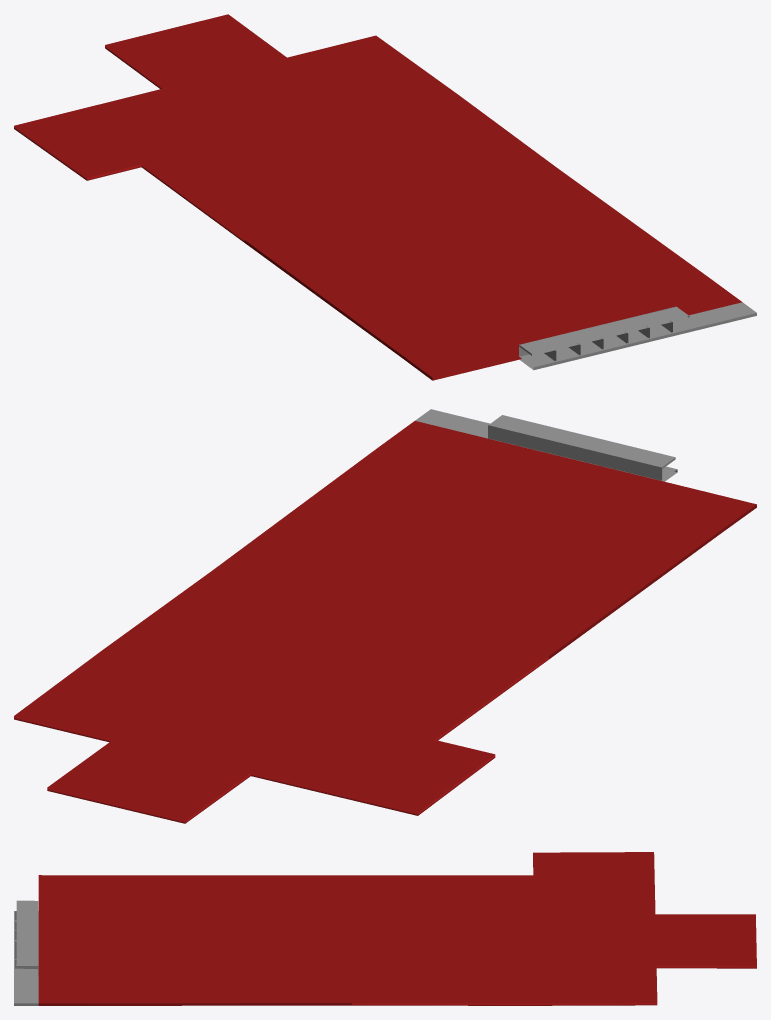
Rendered from floor.FBX.
3 views of the same model, one above another, from view 1: azimuth 30°, elevation 25°; view 2: azimuth 150°, elevation 25°; view 3: azimuth 270°, elevation 25° (orthographic). The views are drawn at different scales.
Visible parts, largest first — view 1: foor10_18; view 2: foor10_18; view 3: foor10_18.
Part boxes in pixels (bbox=[...]): foor10_18: bbox=[14, 14, 756, 380]; foor10_18: bbox=[14, 409, 756, 823]; foor10_18: bbox=[14, 852, 756, 1005].
Size of the model in its own units: 3015 by 121 by 6252.
